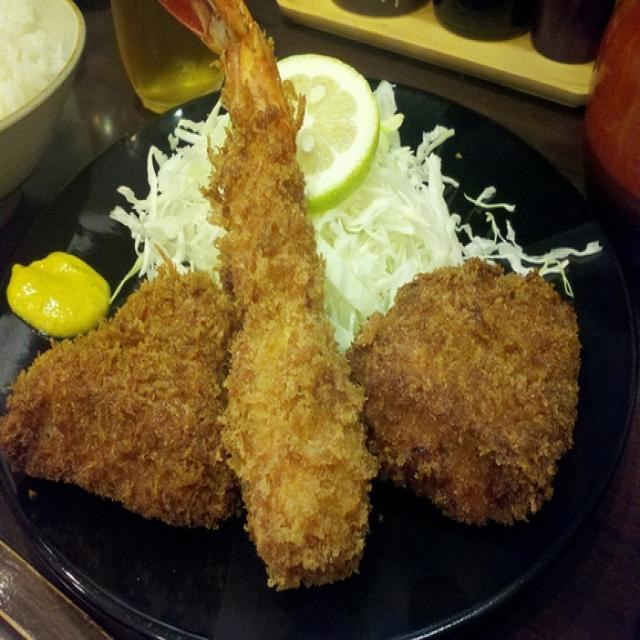牛肉菜式: (11, 37, 608, 600)
